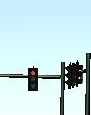Red: (28, 68, 38, 91)
